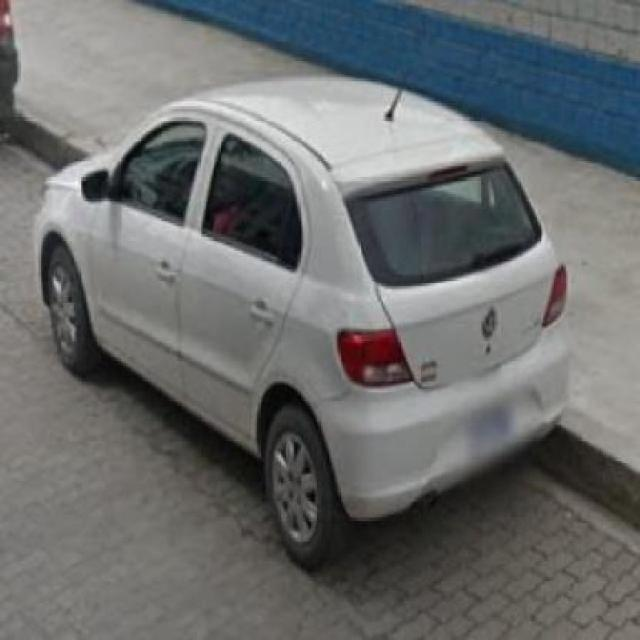car: (36, 68, 567, 559)
